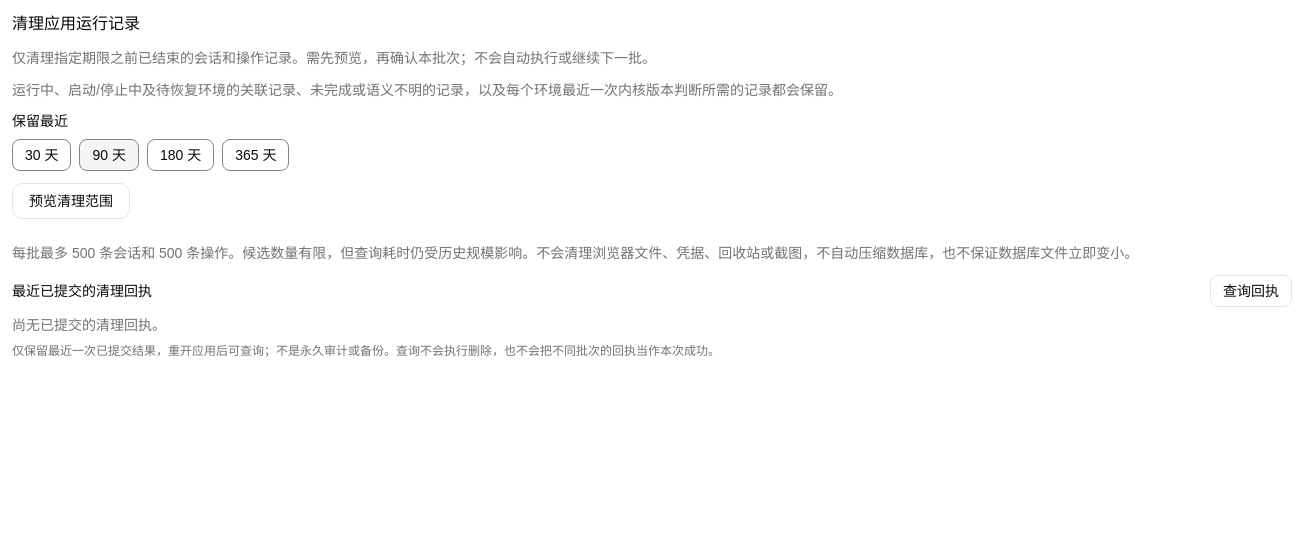
it: allows discarding a slow preview and ignores its late response after a newer request
This screenshot has width=1304, height=538.
Click the button "预览清理范围": (71, 201) [12,183,130,219]
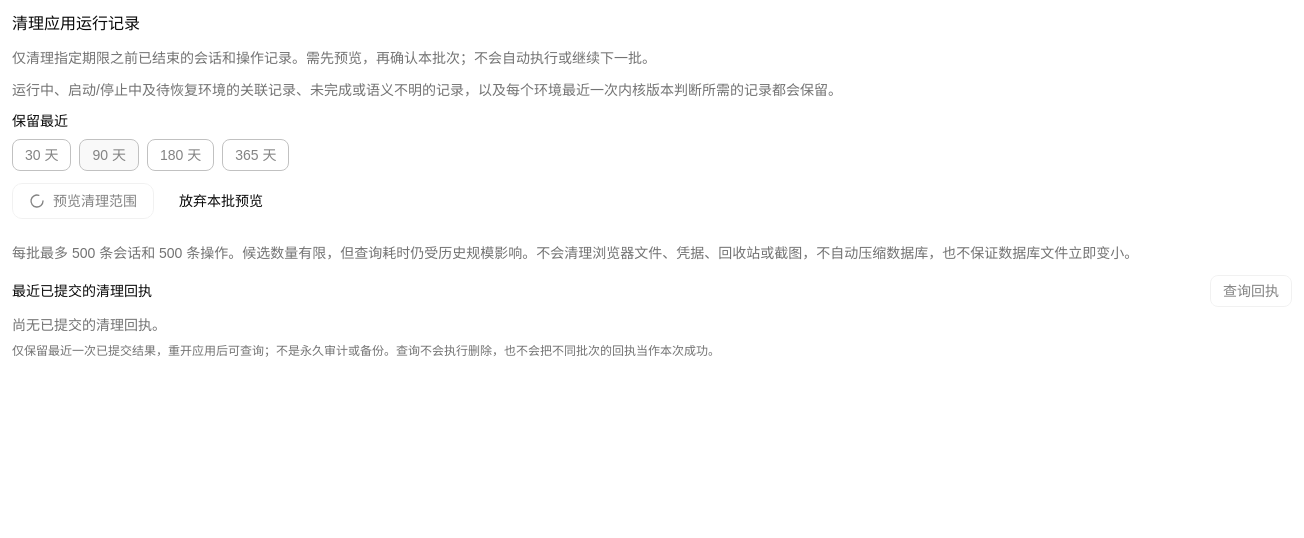
Now the button "预览清理范围" is disabled, box [12,183,154,219]
Click the button "放弃本批预览": (221, 201) [162,183,280,219]
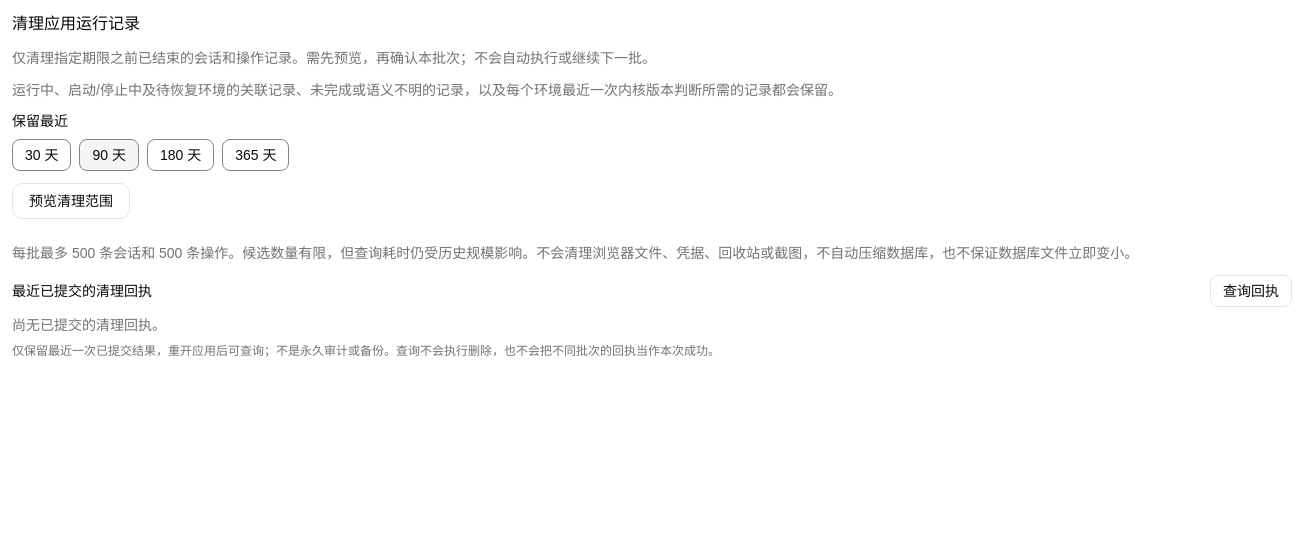
Click the button "预览清理范围": (71, 201) [12,183,130,219]
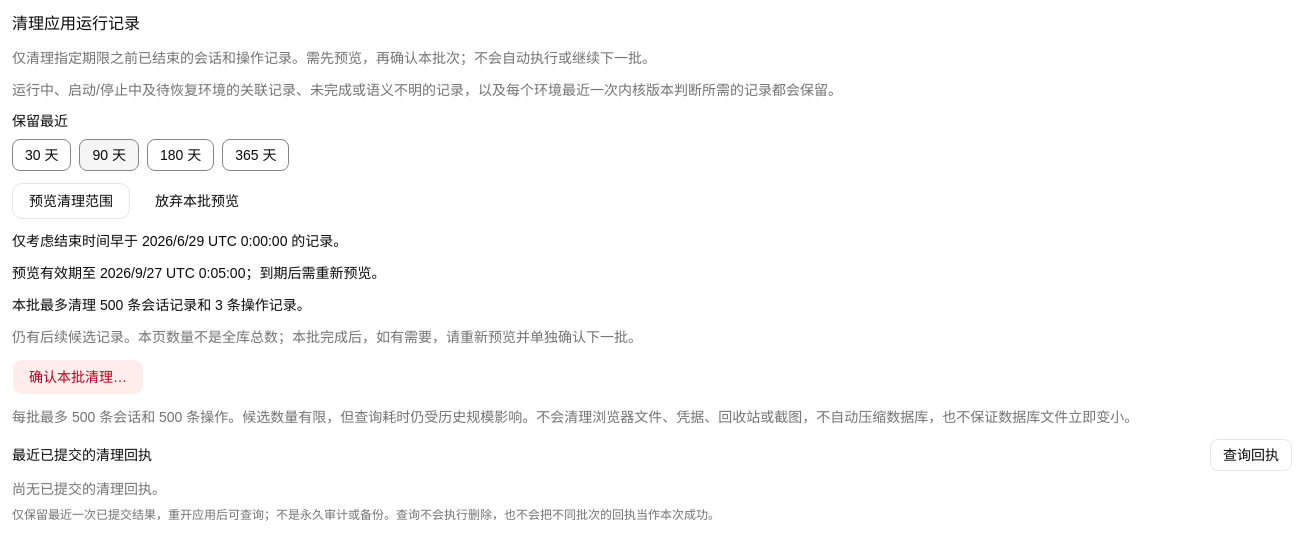
Now the text "3 条操作记录" is shown, box [12,297,311,313]
